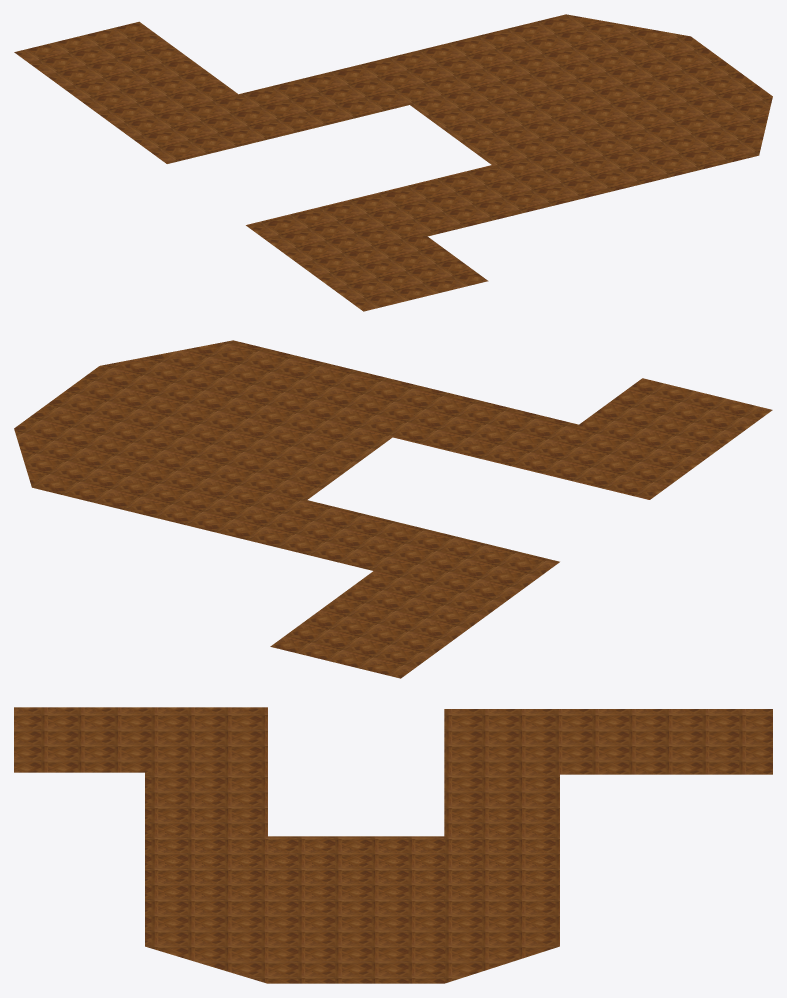
The model's file is Hallway4.fbx.
3 views of the same model, one above another, from view 1: azimuth 30°, elevation 25°; view 2: azimuth 150°, elevation 25°; view 3: azimuth 270°, elevation 25° (orthographic). The views are drawn at different scales.
Parts seen in each view (by area): view 1: Floorplan3; view 2: Floorplan3; view 3: Floorplan3.
Boxes of the visible parts, bbox=[...] form: Floorplan3: bbox=[14, 14, 772, 311]; Floorplan3: bbox=[14, 340, 772, 678]; Floorplan3: bbox=[14, 707, 772, 983].
Size of the model in its own units: 1000 by 0.000189 by 1159.
